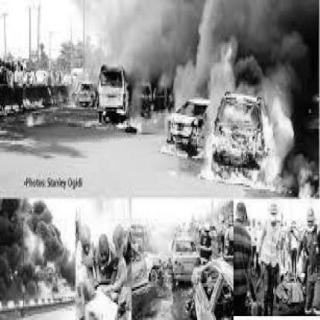Smoke: (85, 1, 317, 99)
